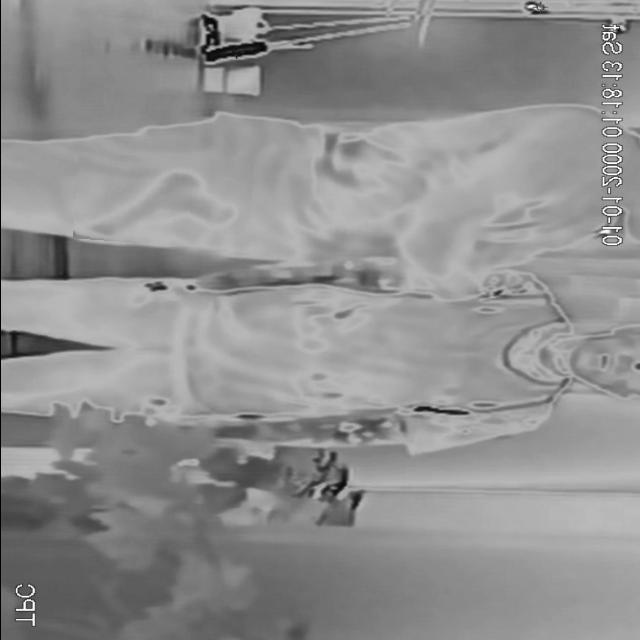Weapon: (73, 155, 251, 248)
